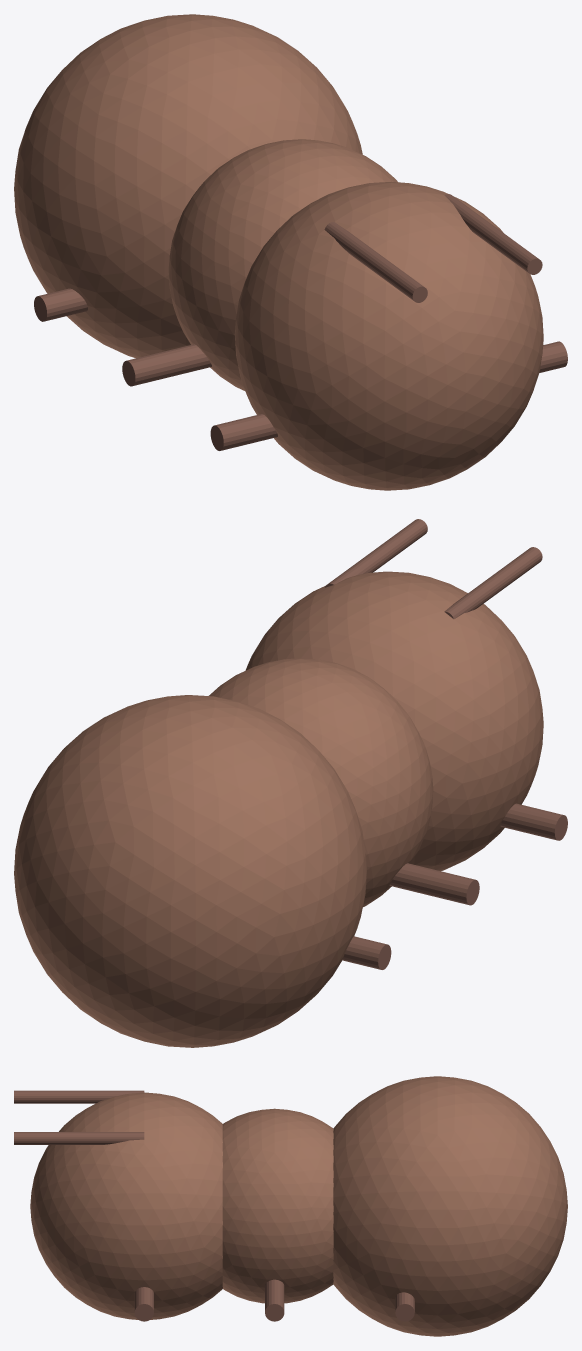
Rendered from stylized_worker_ant.glb.
3 views of the same model, one above another, from view 1: azimuth 30°, elevation 25°; view 2: azimuth 150°, elevation 25°; view 3: azimuth 270°, elevation 25° (orthographic). The views are drawn at different scales.
Visible parts, largest first — view 1: world; view 2: world; view 3: world.
Boxes of the visible parts, x1=… form: world: x1=14, y1=14, x2=567, y2=490; world: x1=14, y1=519, x2=567, y2=1047; world: x1=14, y1=1076, x2=567, y2=1336.
Bounding box in the file's own units: 0.9 × 0.8 × 1.7.
